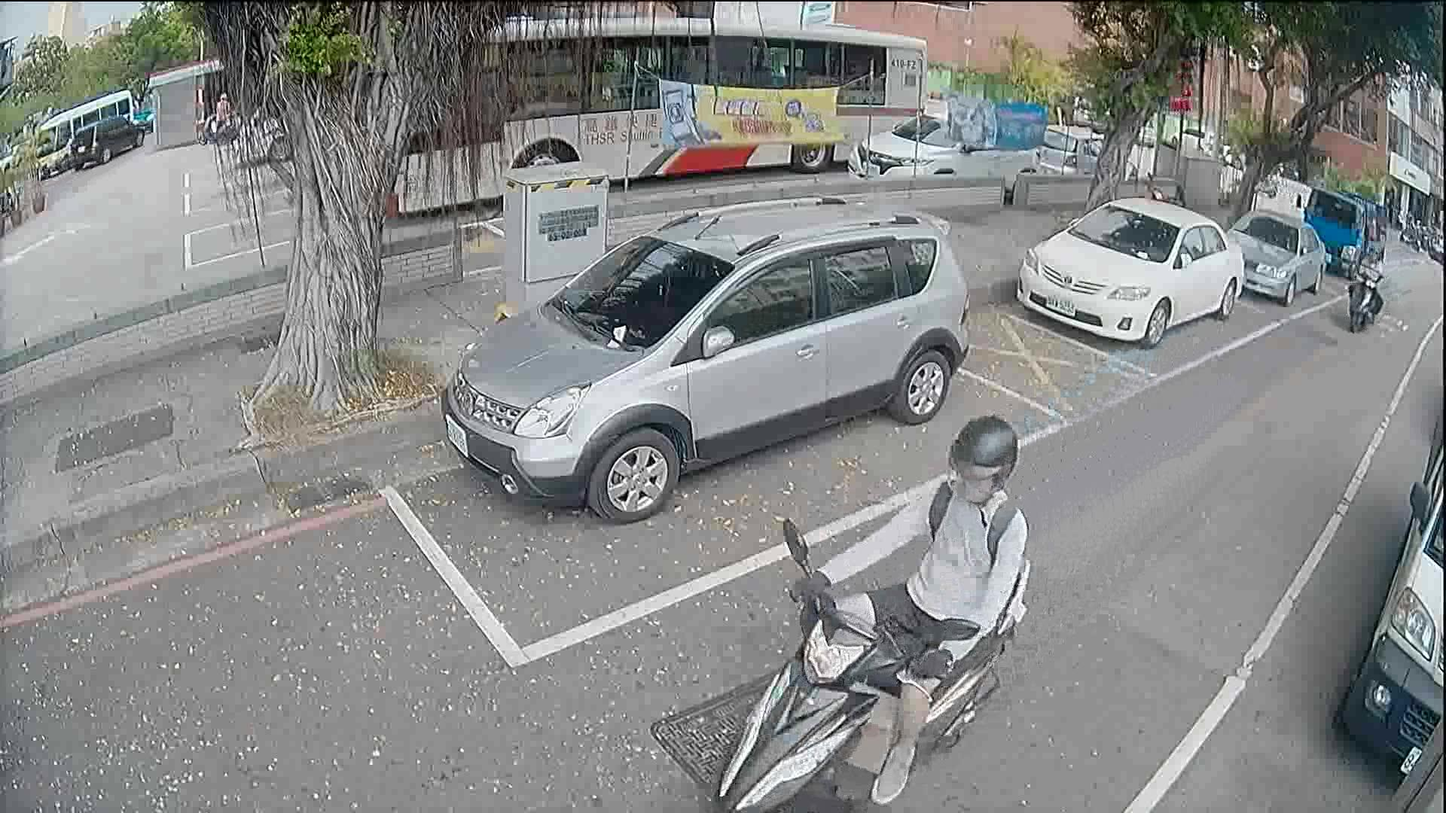person: (779, 406, 1030, 802), (1347, 243, 1382, 325), (208, 85, 232, 143)
